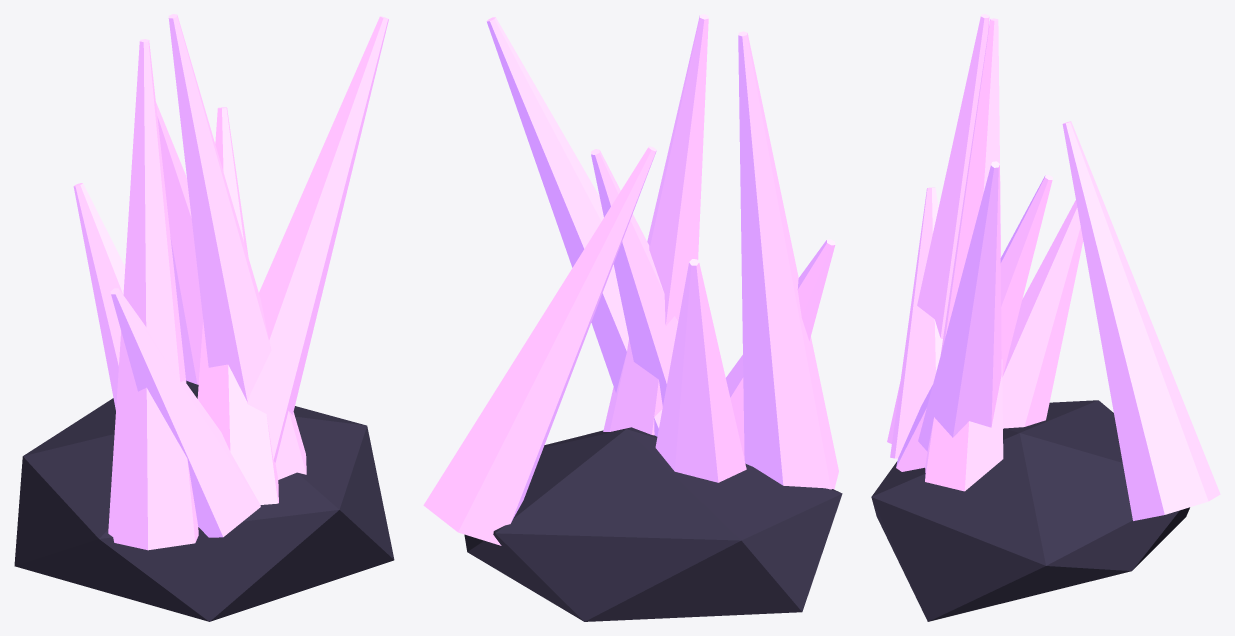
The model's file is res_crystal.glb.
3 renders of one model, left to right at view 1: azimuth 30°, elevation 25°; view 2: azimuth 150°, elevation 25°; view 3: azimuth 270°, elevation 25°, orthographic. The views are drawn at different scales.
Visible parts, largest first — view 1: Base, Shard5, Shard3, Shard6, Shard1, Shard0, Shard2, Shard4; view 2: Base, Shard5, Shard2, Shard6, Shard4, Shard3, Shard0, Shard1; view 3: Base, Shard2, Shard3, Shard6, Shard4, Shard5, Shard1, Shard0.
Part boxes in pixels (x1,y1,x2,y2): Base: [14, 380, 394, 621]; Shard5: [108, 39, 198, 550]; Shard3: [247, 16, 388, 462]; Shard6: [168, 14, 306, 479]; Shard1: [110, 288, 260, 537]; Shard0: [197, 107, 278, 504]; Shard2: [156, 102, 202, 384]; Shard4: [73, 183, 125, 409]; Base: [464, 427, 842, 621]; Shard5: [738, 31, 838, 489]; Shard2: [423, 146, 656, 545]; Shard6: [603, 14, 708, 435]; Shard4: [655, 259, 746, 482]; Shard3: [486, 17, 662, 436]; Shard0: [591, 149, 678, 406]; Shard1: [726, 239, 835, 459]; Base: [871, 400, 1189, 621]; Shard2: [1062, 121, 1220, 520]; Shard3: [918, 161, 1001, 451]; Shard6: [925, 18, 1003, 491]; Shard4: [1002, 200, 1083, 428]; Shard5: [887, 14, 989, 443]; Shard1: [890, 187, 942, 458]; Shard0: [896, 175, 1052, 471].
Bounding box in the file's own units: 1.35 × 2.15 × 1.26.
